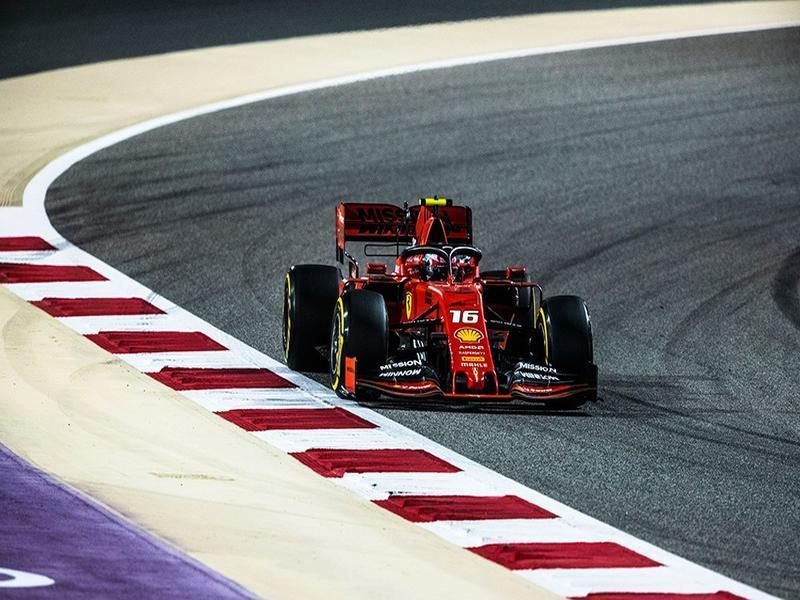f1: (276, 188, 608, 446)
